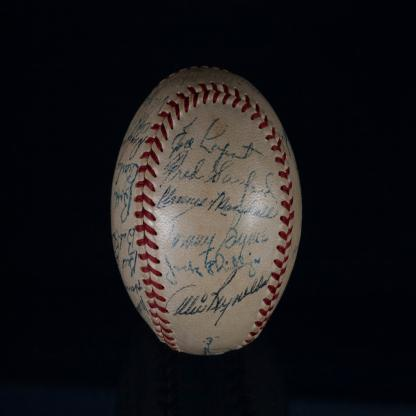Ball: (111, 65, 300, 354)
